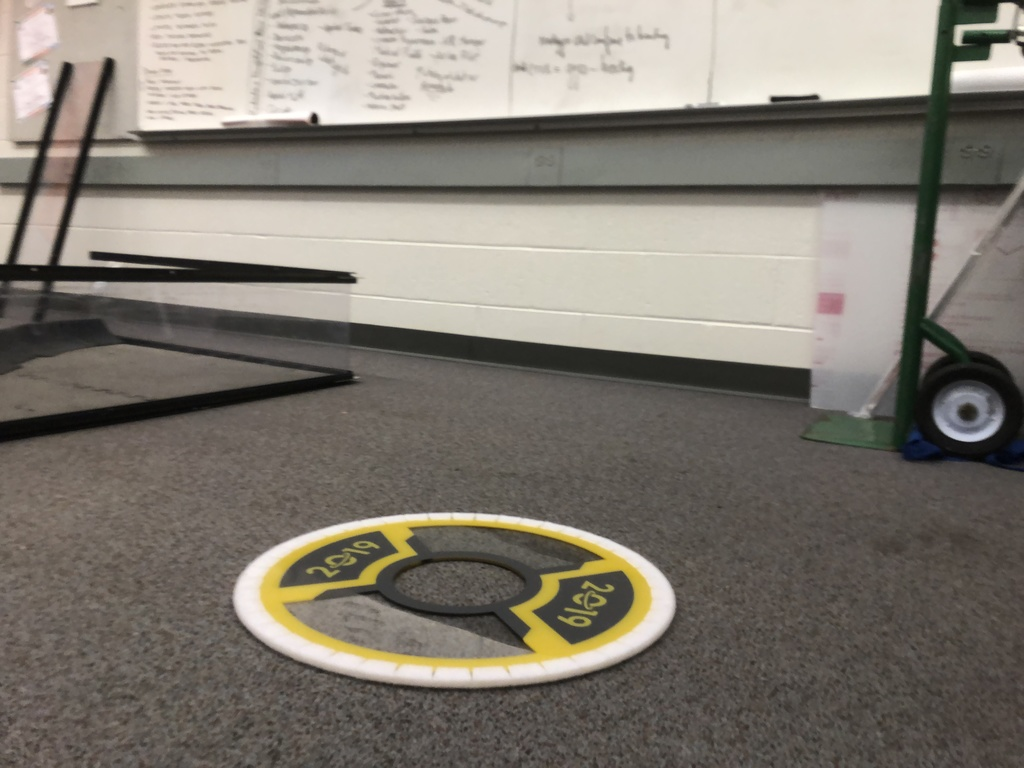hatch_panel: (222, 499, 693, 693)
